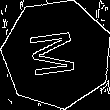M_E: (28, 27, 85, 81)
